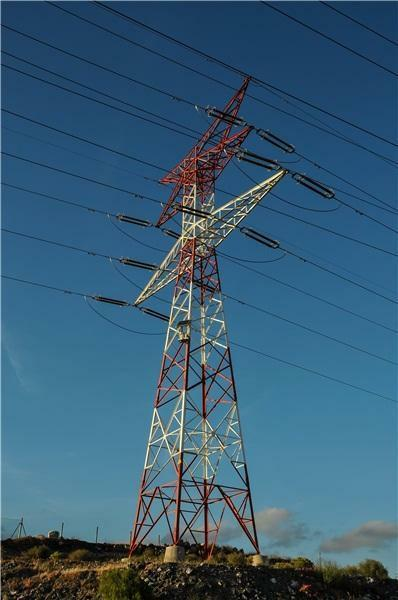power_tower: (123, 65, 289, 566)
